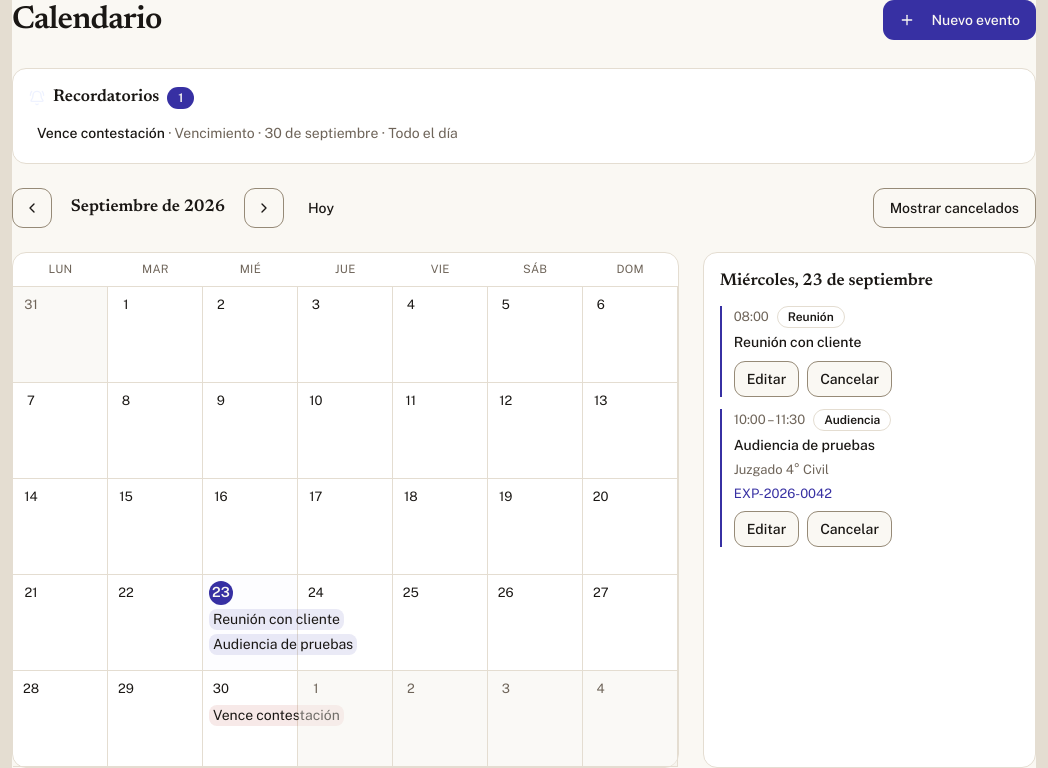
Test: CalendarView › choosing another day lists that day
This screenshot has width=1048, height=768.
Click the button with aria-label "30 de septiembre" at (250,719), box [203,671,298,767]
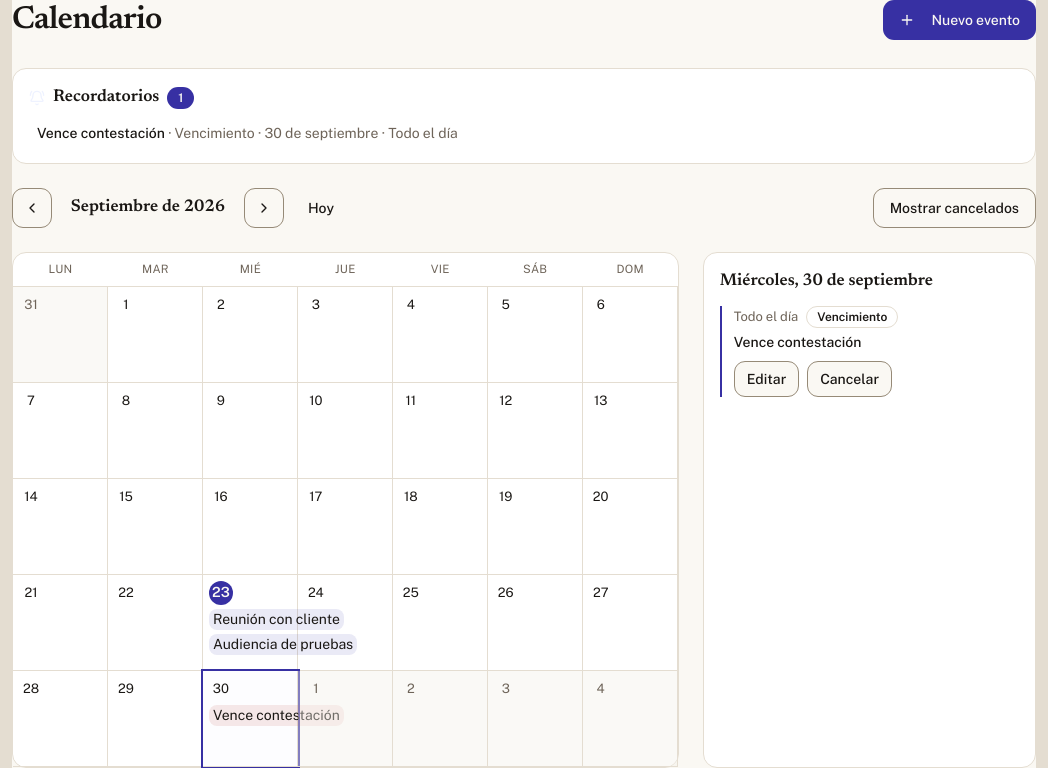
expect the text "Vence contestación" below "miércoles, 30 de septiembre" is shown: met, box [734,334,862,350]
expect the text "Todo el día" is shown: met, box [734,307,798,327]
